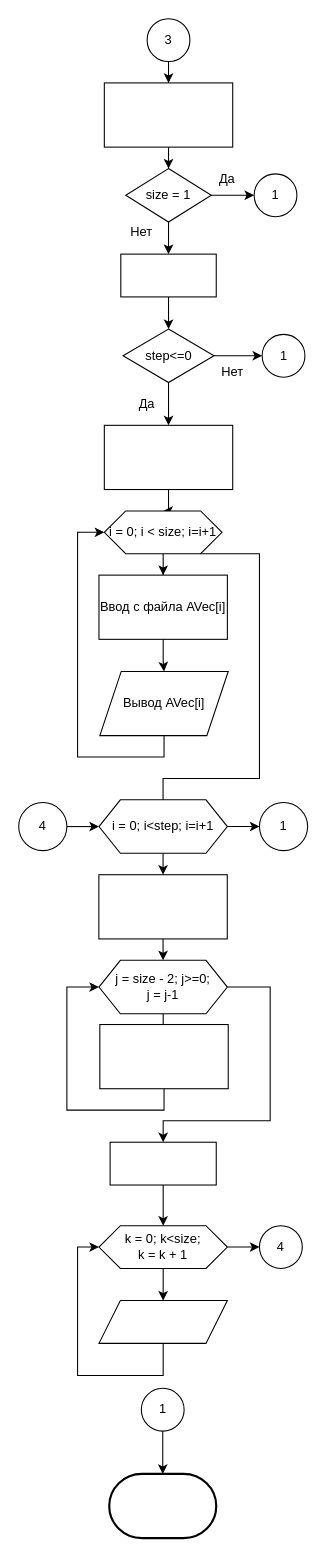
Image size: 326x1558. Some labels were removed from this diagram. Each missing label, with the centre of its shape:
AVec[ j+1 ] = AVec[ j ]: (x=163, y=1056)
AVec[0] = temp: (x=162, y=1163)
temp = AVec[size -1]: (x=162, y=906)
Ввести с файла step step = step - 1: (x=168, y=275)
Вернуться в начало файла: (x=168, y=114)
Вывод AVec[k]: (x=162, y=1321)
Инициализировать массив AVec[size]: (x=168, y=457)
Конец: (x=162, y=1505)
